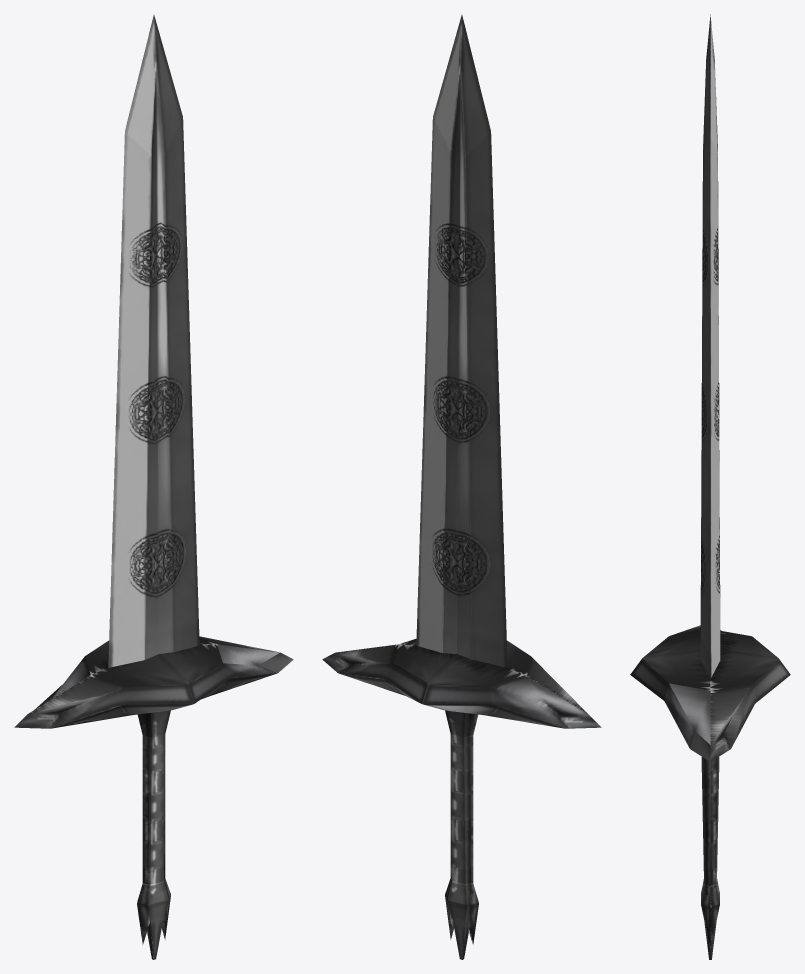
File: silver gladius.fbx
3 renders of one model, left to right at view 1: azimuth 30°, elevation 25°; view 2: azimuth 150°, elevation 25°; view 3: azimuth 270°, elevation 25°, orthographic.
Visible parts, largest first — view 1: Cube, Cube.002, Cube.001; view 2: Cube, Cube.002, Cube.001; view 3: Cube.002, Cube, Cube.001.
Boxes of the visible parts, x1,y1,x2,y2 form: Cube: (108,15,199,667); Cube.002: (14,636,293,728); Cube.001: (137,710,170,959); Cube: (416,15,507,667); Cube.002: (322,638,601,728); Cube.001: (445,710,478,959); Cube.002: (630,625,790,761); Cube: (700,14,720,678); Cube.001: (701,757,719,959).
Bounding box in the file's own units: 529 × 1706 × 263.
2 materials, 2 textured.
